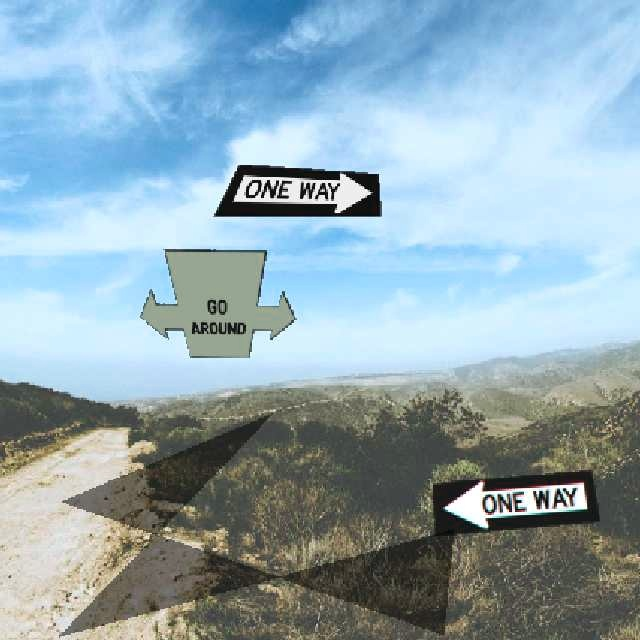GO_AROUND: (138, 247, 295, 357)
ONE_WAY_ left: (430, 468, 599, 535)
ONE_WAY_ right: (211, 162, 380, 216)
